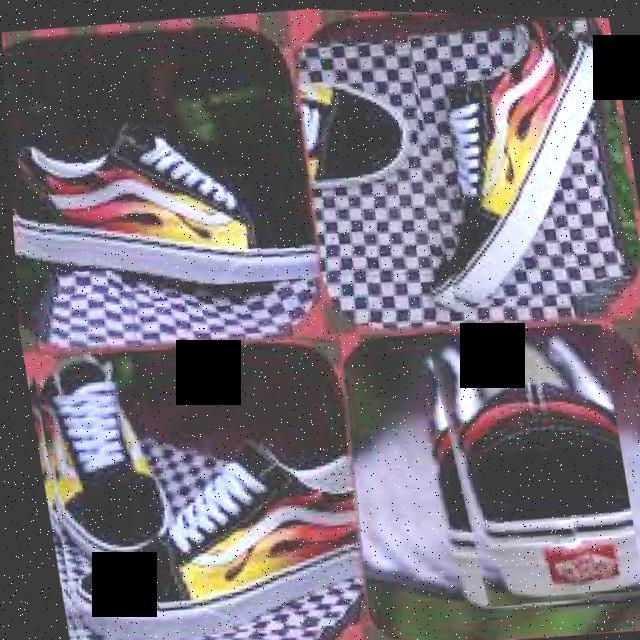shoe: (0, 0, 640, 640), (25, 323, 380, 640), (4, 83, 325, 305), (405, 9, 640, 310), (421, 316, 638, 609)
